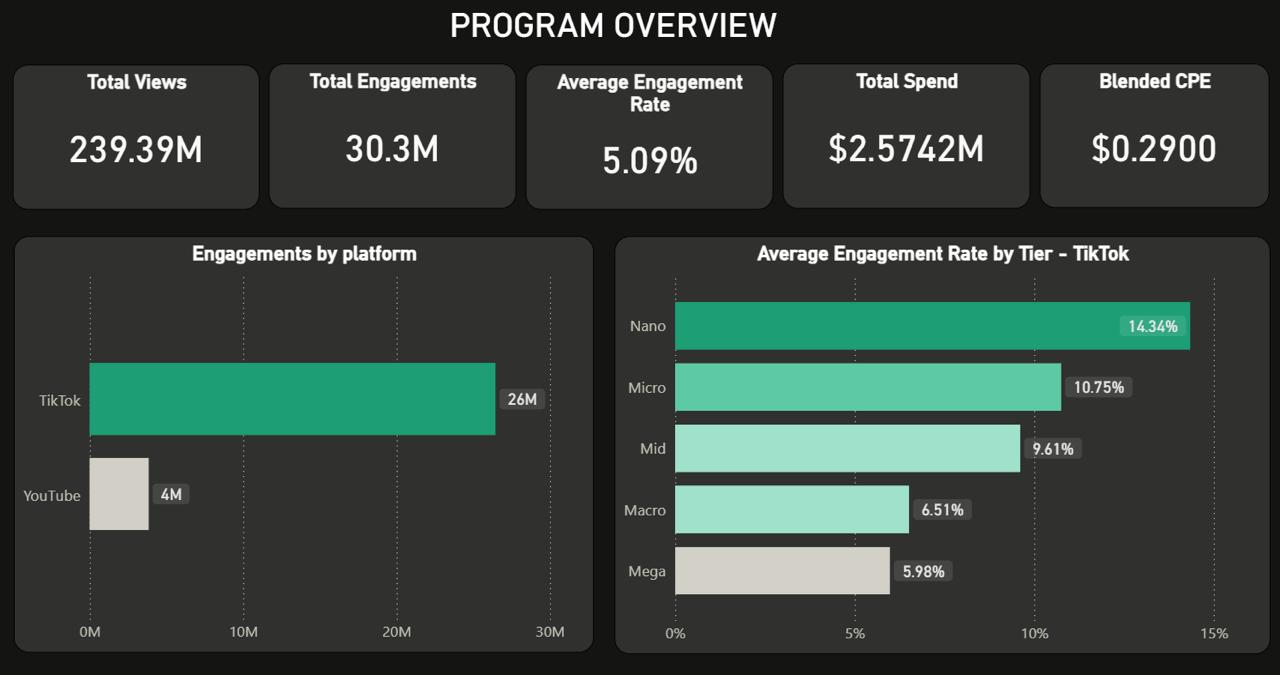

What the dashboard file says about the page in this screenshot:
{"tool":"powerbi","page":{"name":"Program Overview","canvas":[1280,720],"ordinal":0},"visuals":[{"type":"cardVisual","title":"Total Views","fields":{"Data":["VideoMetrics.Total Views"]},"box":[28.5,72.9,242.8,142.3],"z":0},{"type":"cardVisual","title":"Total Engagements","fields":{"Data":["Sum(CreatorScorecard.total_engagements)"]},"box":[280.2,71.4,243.2,142.4],"z":1000},{"type":"cardVisual","title":"Average Engagement Rate","fields":{"Data":["VideoMetrics.Avg ER"]},"box":[532.2,72.7,243.2,142.4],"z":2000},{"type":"cardVisual","title":"Total Spend","fields":{"Data":["VideoMetrics.Total Spend"]},"box":[784.3,71.4,243.2,142.4],"z":3000},{"type":"cardVisual","title":"Blended CPE","fields":{"Data":["VideoMetrics.Avg CPE"]},"box":[1036.2,71.6,225.7,142],"z":4000},{"type":"clusteredBarChart","title":"Engagements by platform","fields":{"Y":["VideoMetrics.Total Engagements"],"Category":["VideoMetrics.platform"]},"box":[29,240.7,569.7,409.6],"z":5000},{"type":"clusteredBarChart","title":"Average Engagement Rate by Tier - TikTok","fields":{"Category":["TierAnalysis.tier"],"Y":["Sum(TierAnalysis.avg_er)"]},"box":[618.8,240.7,644,410.9],"z":6000},{"type":"textbox","box":[364.7,9,507,48.6],"z":7000}]}

Visuals, with their boxes on the page's 1280x720 design canvas (x1, y1, x2, y2). These are canvas units, not pixel positions in the 1280x675 screenshot, which may show the page scaled, cropped or inside an application window:
"Total Views" cardVisual: left=28, top=73, right=271, bottom=215
"Total Engagements" cardVisual: left=280, top=71, right=523, bottom=214
"Average Engagement Rate" cardVisual: left=532, top=73, right=775, bottom=215
"Total Spend" cardVisual: left=784, top=71, right=1028, bottom=214
"Blended CPE" cardVisual: left=1036, top=72, right=1262, bottom=214
"Engagements by platform" clusteredBarChart: left=29, top=241, right=599, bottom=650
"Average Engagement Rate by Tier - TikTok" clusteredBarChart: left=619, top=241, right=1263, bottom=652
textbox: left=365, top=9, right=872, bottom=58
